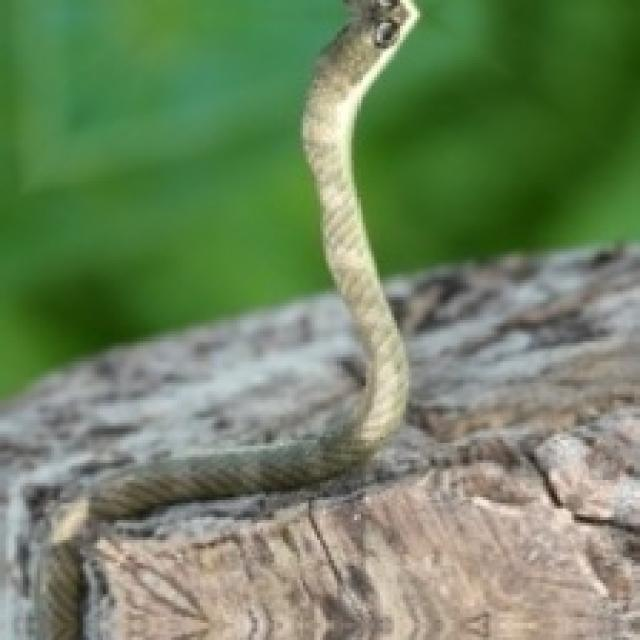paradise tree snake: (34, 0, 417, 637)
